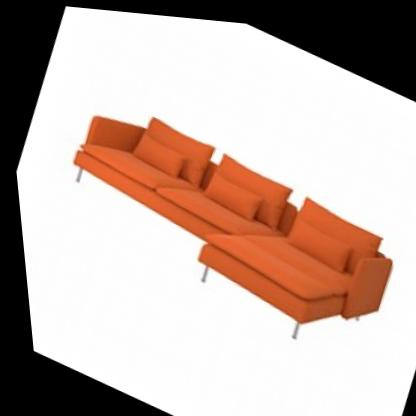Sofa: (11, 56, 416, 382)
